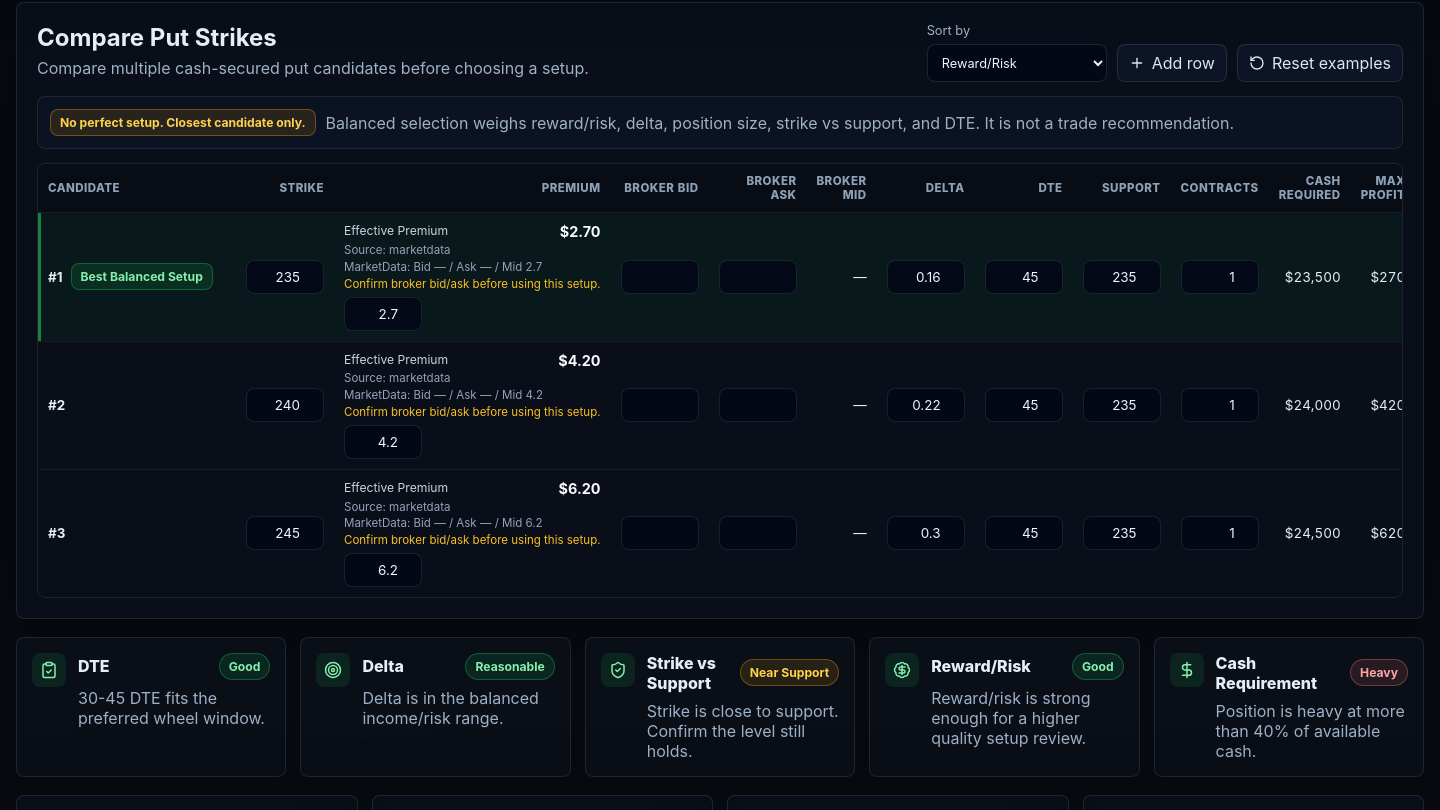
Test case: App › shows broker ask warning and can clear override
Later steps or results of the test are not shown.
(page scrolled)
Type "10" into the number field named "Broker Bid smh-240" at (660, 405), box [620,388,698,422]
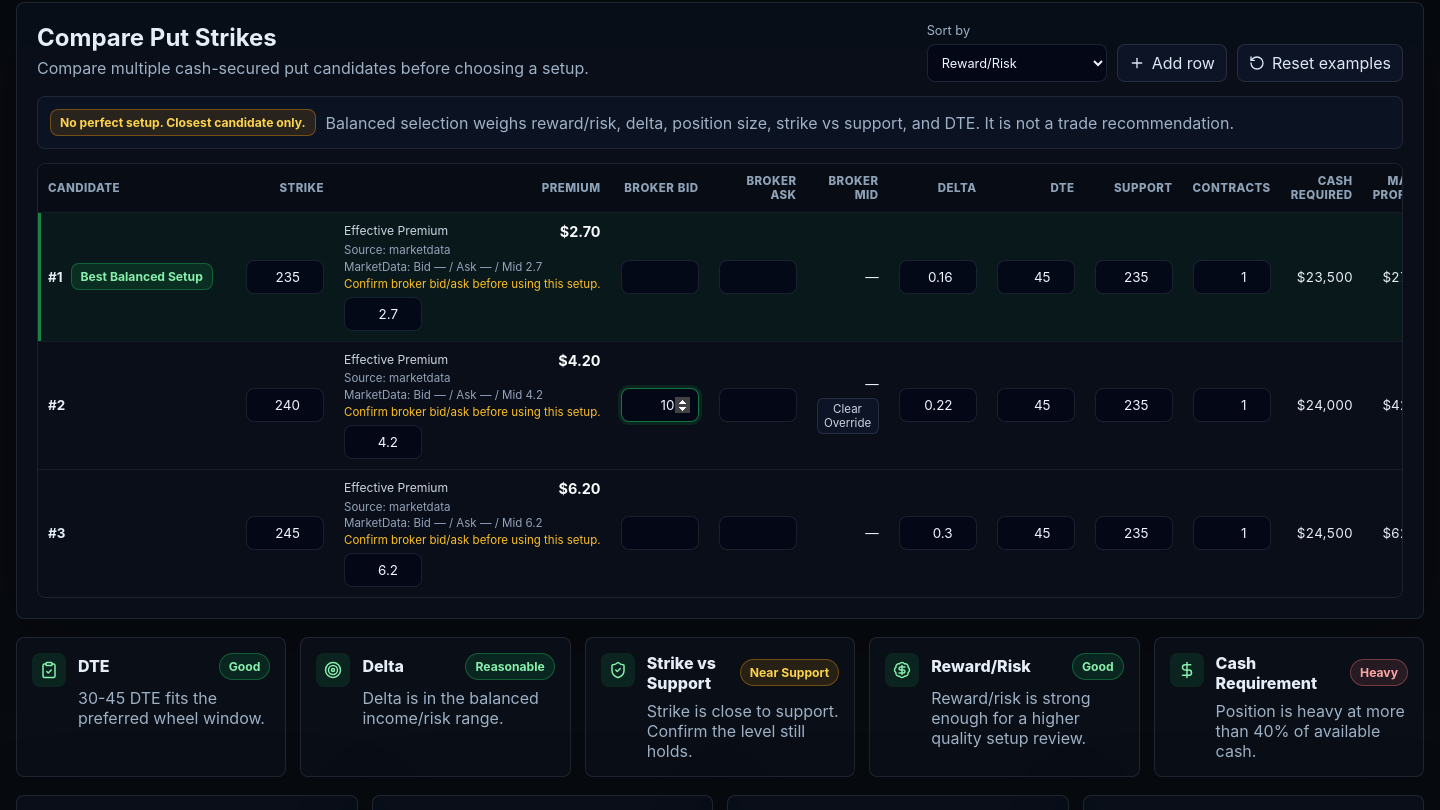
Type "7" into the number field named "Broker Ask smh-240" at (758, 405), box [718,388,796,422]
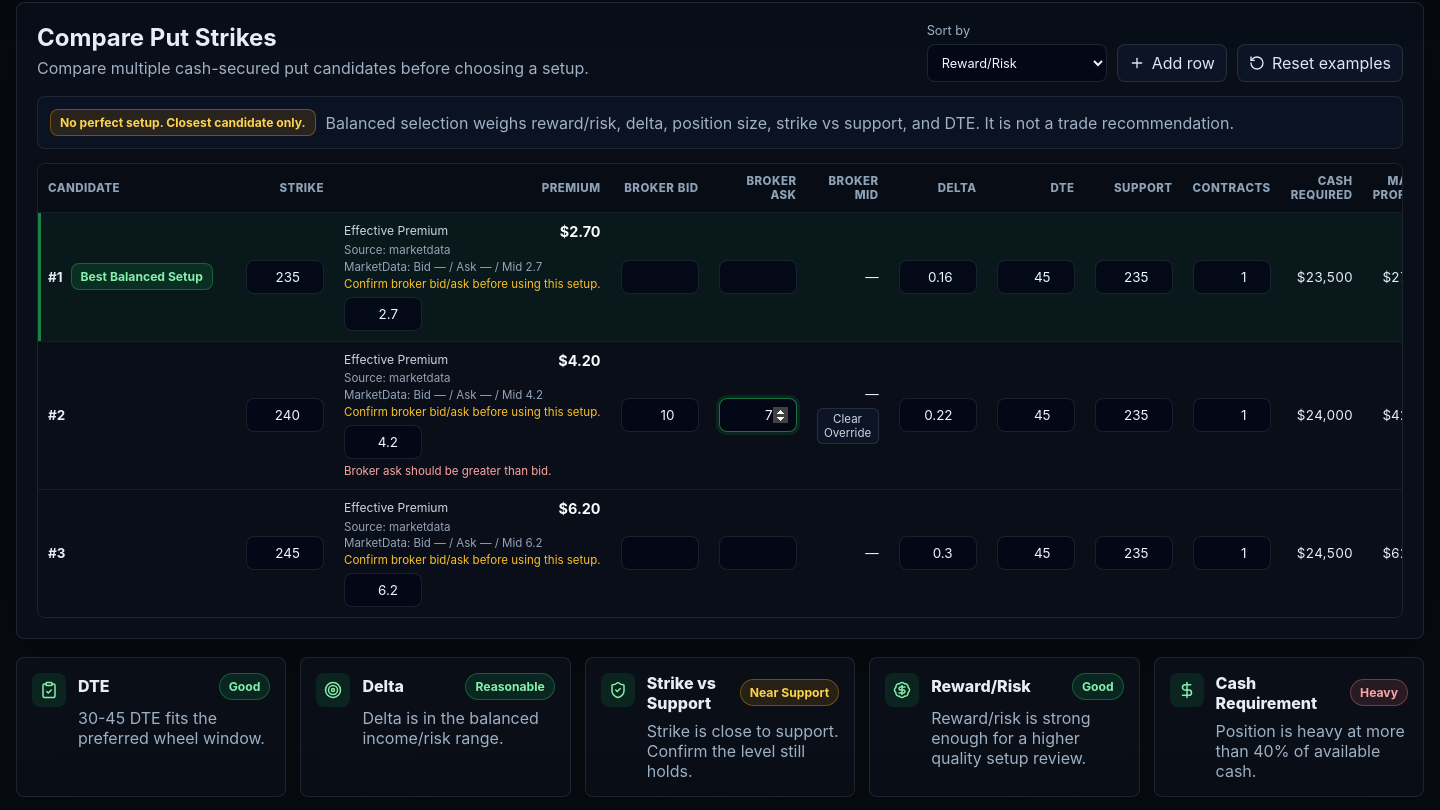
Check: the text "Broker ask should be greater than bid." is shown, box [344,464,554,479]
